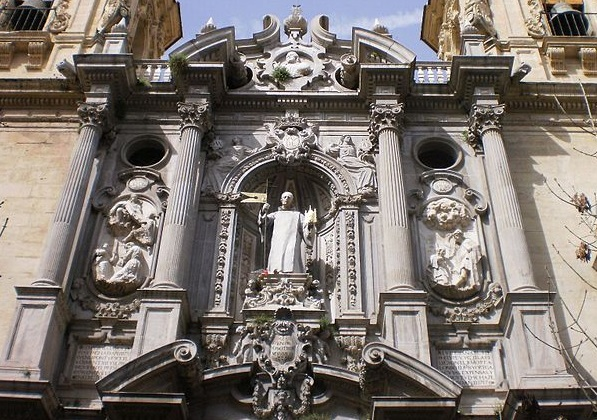arco-medio-punto: (226, 149, 354, 220)
fronton-partido: (91, 336, 468, 420), (166, 21, 426, 82)
ojo-de-buey: (409, 134, 462, 171), (120, 132, 171, 169)
